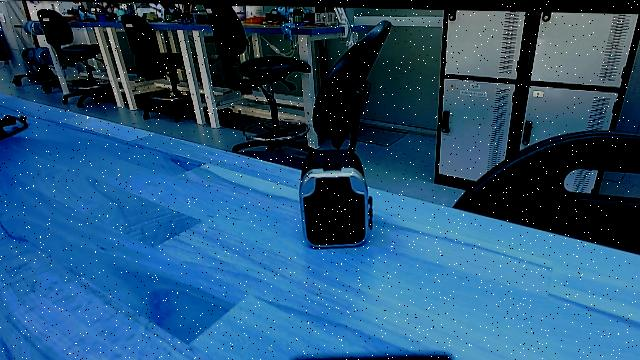adapter: (297, 142, 379, 256)
